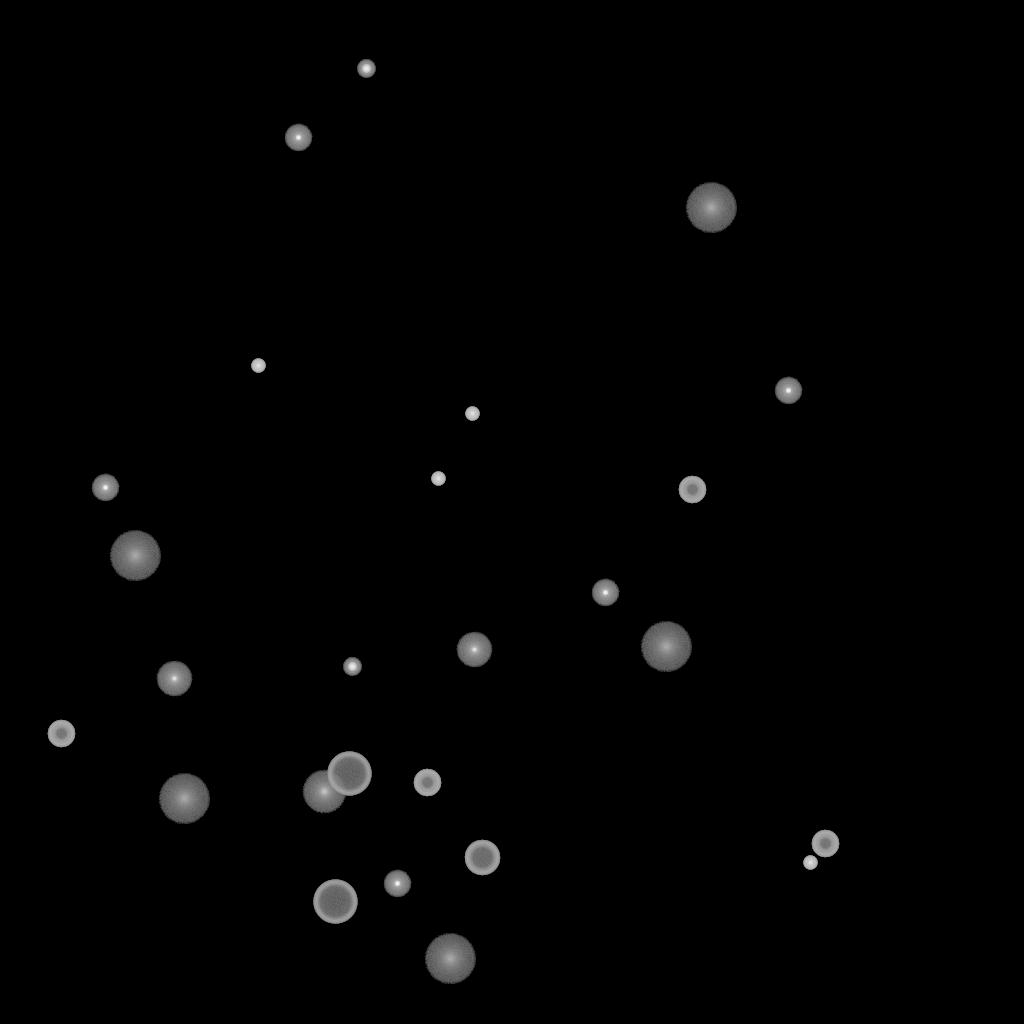depth:-10: (591, 579, 619, 607), (383, 870, 411, 898), (774, 377, 802, 405), (91, 474, 119, 502), (284, 124, 312, 152)
depth:-20: (343, 658, 361, 676), (357, 60, 375, 78)
depth:-30: (251, 359, 265, 373), (803, 856, 817, 870), (465, 407, 479, 421), (431, 472, 445, 486)
depth:-50: (678, 476, 706, 504), (47, 720, 75, 748), (811, 830, 839, 858), (413, 769, 441, 797)
depth:-60: (464, 840, 500, 876)
depth:-70: (313, 880, 357, 924), (327, 752, 371, 796)
depth:0: (156, 661, 192, 697), (456, 632, 492, 668)
depth:10: (302, 770, 346, 814)
depth:20: (685, 183, 737, 233), (424, 934, 476, 984), (109, 531, 161, 581), (158, 774, 210, 824), (640, 622, 692, 672)
